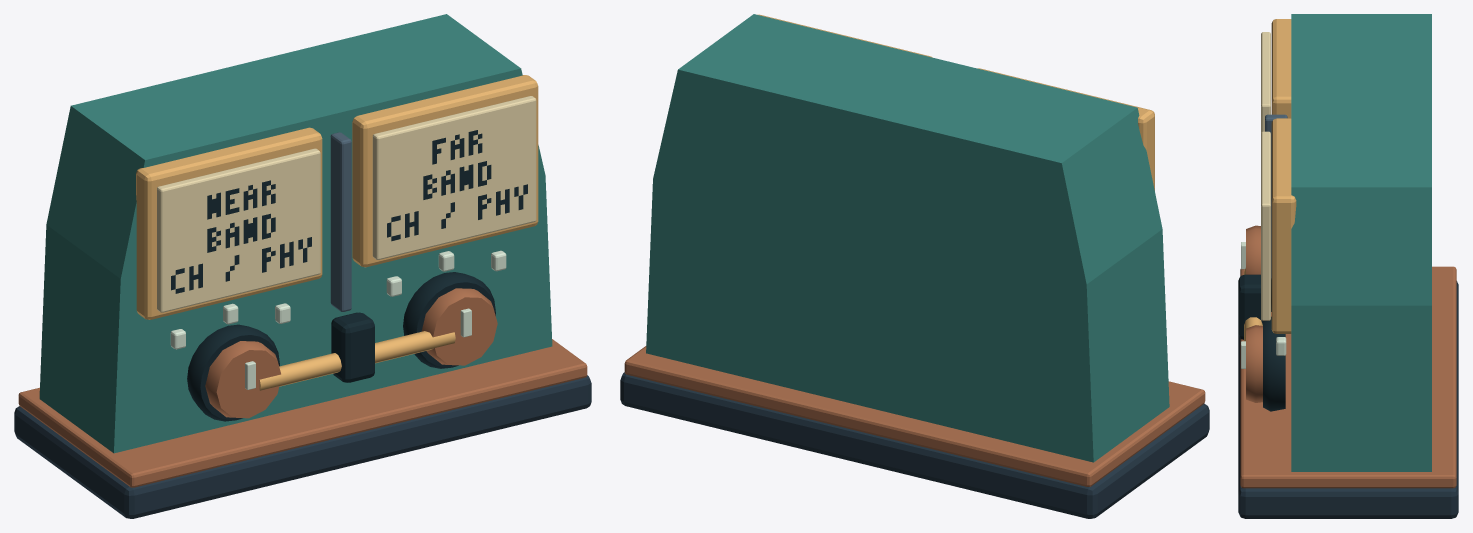
The picture shows the model from 3 angles, left to right: view 1: azimuth 30°, elevation 25°; view 2: azimuth 150°, elevation 25°; view 3: azimuth 270°, elevation 25°; orthographic projection. The views are drawn at different scales.
Visible parts, largest first — view 1: PR066 enamel and hardware; view 2: PR066 enamel and hardware; view 3: PR066 enamel and hardware.
Part boxes in pixels (x1,y1,x2,y2): PR066 enamel and hardware: (14, 14, 591, 518); PR066 enamel and hardware: (620, 14, 1209, 518); PR066 enamel and hardware: (1238, 14, 1458, 518).
Size of the model in its own units: 1.3 by 0.8828 by 0.5627.
